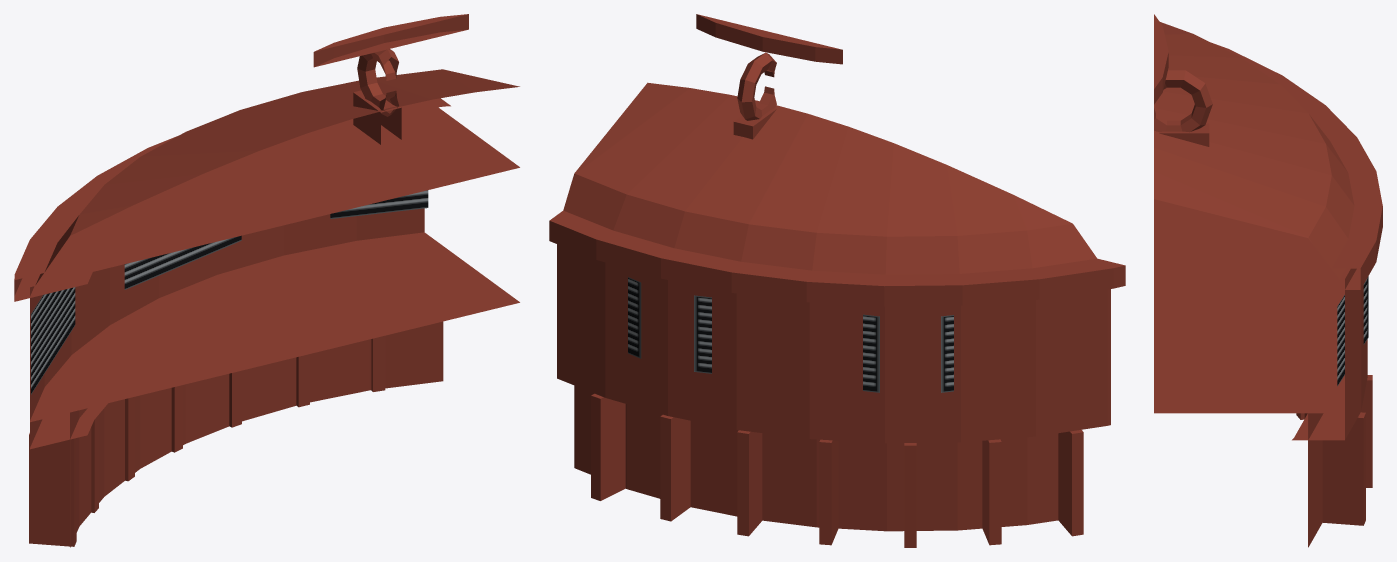
File: cell_86.obj
The picture shows the model from 3 angles, left to right: view 1: azimuth 30°, elevation 25°; view 2: azimuth 150°, elevation 25°; view 3: azimuth 270°, elevation 25°; orthographic projection. The views are drawn at different scales.
Size of the model in its own units: 0.9793 by 0.8072 by 0.3858.
